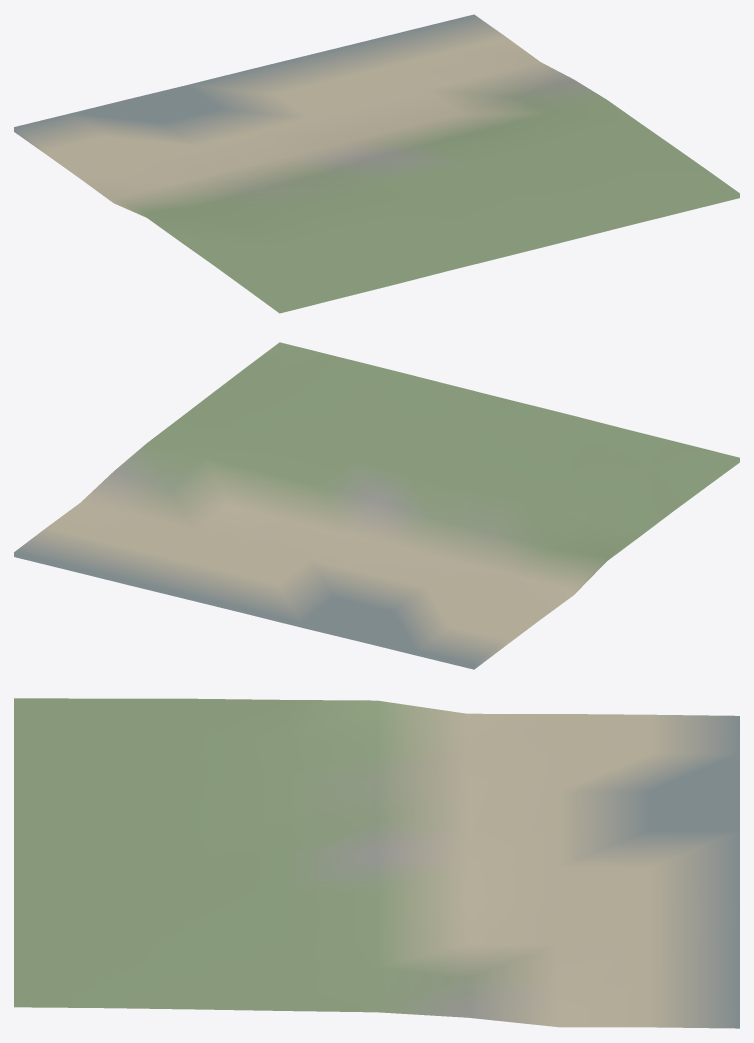
The picture shows the model from 3 angles, top to bottom: view 1: azimuth 30°, elevation 25°; view 2: azimuth 150°, elevation 25°; view 3: azimuth 270°, elevation 25°; orthographic projection. The views are drawn at different scales.
Parts seen in each view (by area): view 1: prim0; view 2: prim0; view 3: prim0.
Boxes of the visible parts, x1,y1,x2,y2 form: prim0: (14, 14, 739, 313); prim0: (14, 342, 739, 669); prim0: (14, 698, 739, 1028).
Size of the model in its own units: 512 by 22.12 by 512.
